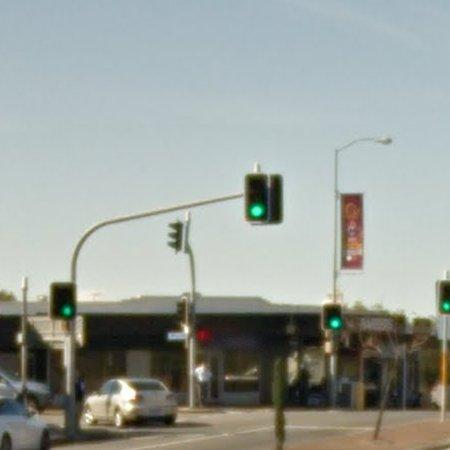traffic lights: (246, 175, 284, 224)
